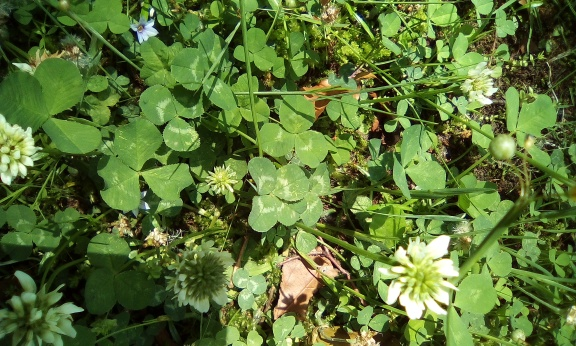4leaf: (247, 157, 309, 233)
